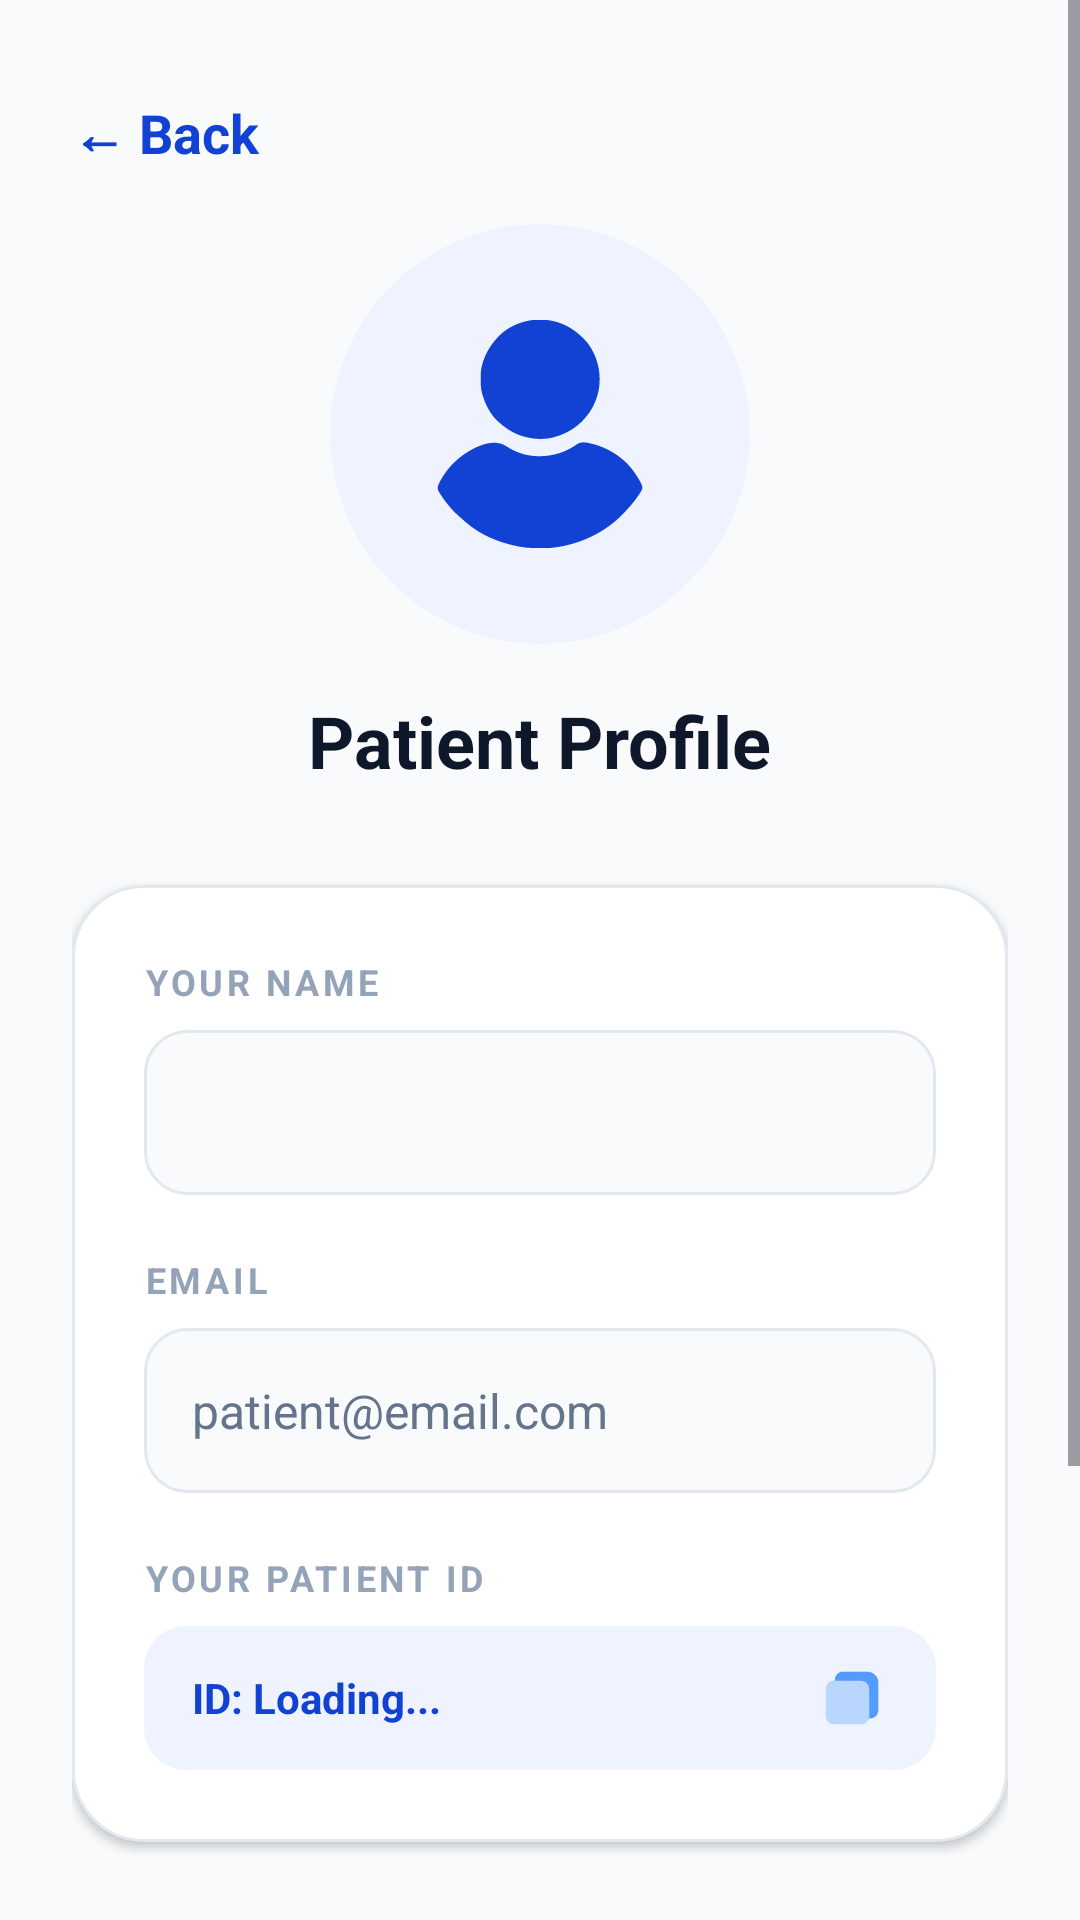

Where to tap for icons on this 1080x1920 app screen, as [x,y]:
user: [540,434]
